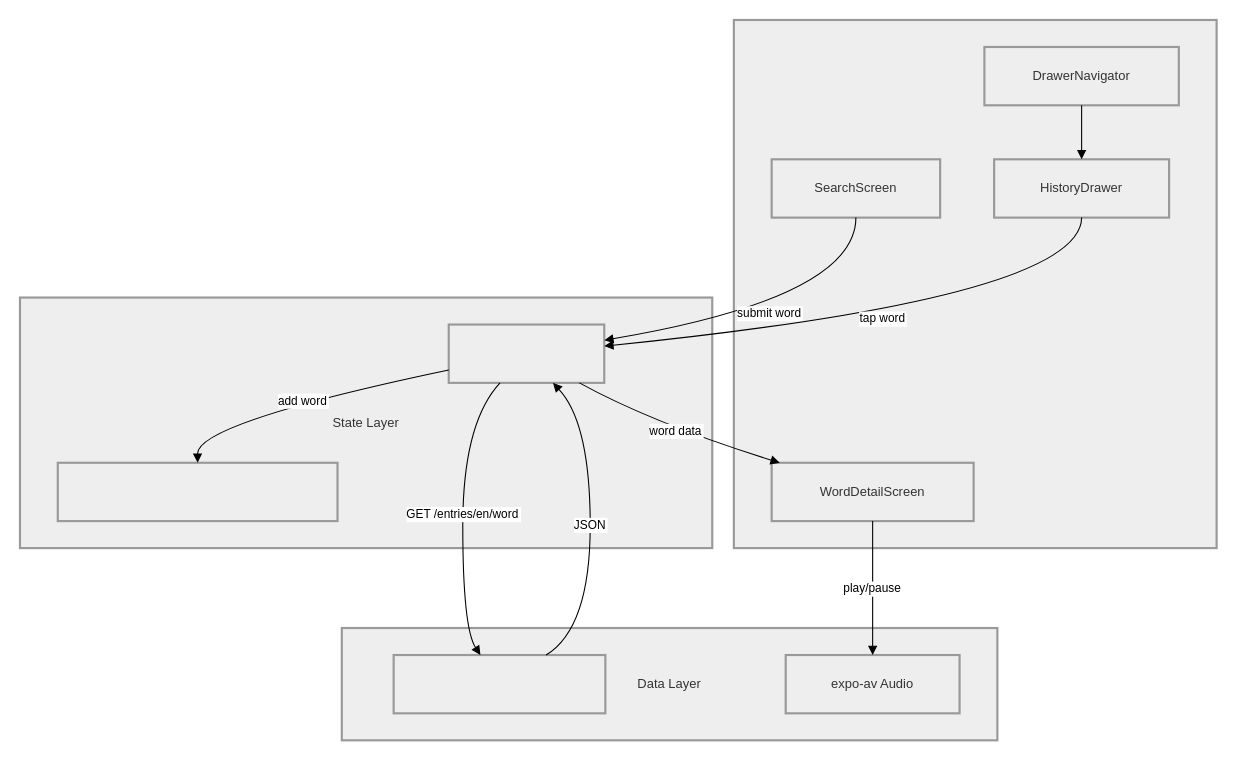
This 1236x759 diagram has some shape labels left out. The box of each missing label's shape, as (x1, y1, x2, y2) in pixels:
AppContext: (447, 323, 605, 383)
dictionaryApi axios: (392, 653, 606, 714)
historyService AsyncStorage: (56, 461, 338, 522)
UI Layer: (732, 18, 1217, 549)
